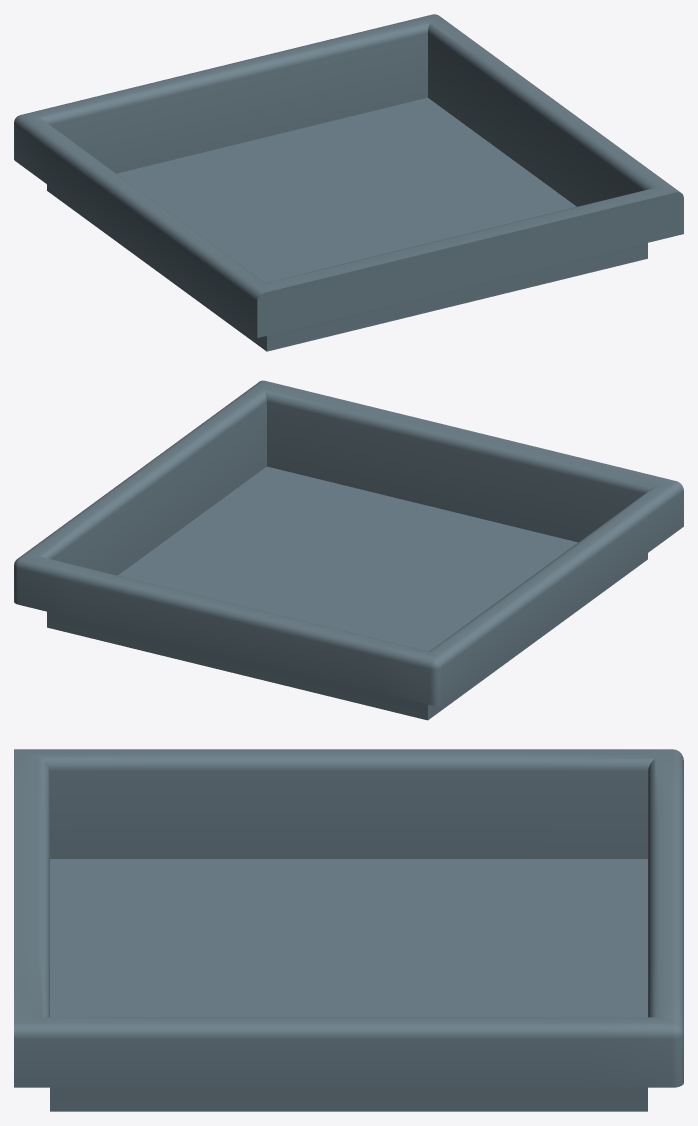
Rendered from newplat.fbx.
3 views of the same model, one above another, from view 1: azimuth 30°, elevation 25°; view 2: azimuth 150°, elevation 25°; view 3: azimuth 270°, elevation 25° (orthographic). The views are drawn at different scales.
Parts seen in each view (by area): view 1: newplat; view 2: newplat; view 3: newplat.
Boxes of the visible parts, box(x1,y1,x2,y2) form: newplat: box(14, 14, 683, 351); newplat: box(14, 380, 683, 720); newplat: box(14, 749, 683, 1111).
Bounding box in the file's own units: 200 × 32.42 × 200.
